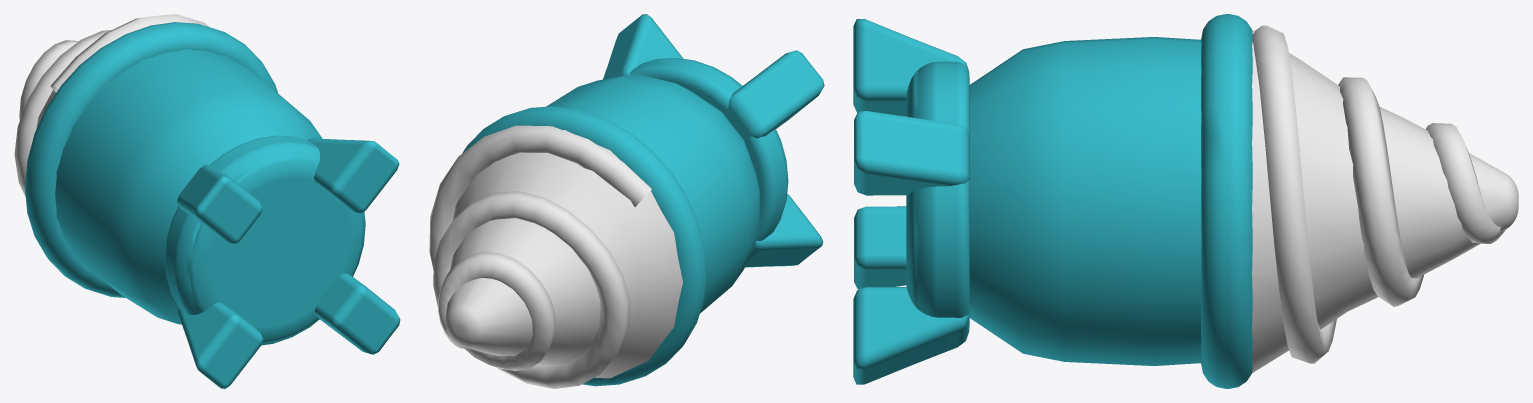
Rendered from Drill New2.fbx.
3 views of the same model, side by side, from view 1: azimuth 30°, elevation 25°; view 2: azimuth 150°, elevation 25°; view 3: azimuth 270°, elevation 25° (orthographic). The views are drawn at different scales.
Parts seen in each view (by area): view 1: Cylinder.006, Cylinder.010, Cube.011, Cylinder.009, Spiral.001; view 2: Spiral.001, Cylinder.006, Cube.011, Cylinder.009, Cylinder.010; view 3: Cylinder.006, Spiral.001, Cube.011, Cylinder.009, Cylinder.010.
Part boxes in pixels (x1=…): Cylinder.006: x1=55, y1=49, x2=321, y2=324; Cylinder.010: x1=165, y1=135, x2=365, y2=345; Cube.011: x1=177, y1=138, x2=400, y2=388; Cylinder.009: x1=25, y1=22, x2=277, y2=297; Spiral.001: x1=14, y1=14, x2=209, y2=196; Spiral.001: x1=429, y1=125, x2=682, y2=388; Cylinder.006: x1=546, y1=73, x2=759, y2=313; Cube.011: x1=603, y1=14, x2=824, y2=267; Cylinder.009: x1=462, y1=106, x2=706, y2=386; Cylinder.010: x1=630, y1=58, x2=788, y2=240; Cylinder.006: x1=969, y1=37, x2=1201, y2=365; Spiral.001: x1=1252, y1=25, x2=1518, y2=372; Cube.011: x1=853, y1=19, x2=969, y2=384; Cylinder.009: x1=1201, y1=14, x2=1252, y2=388; Cylinder.010: x1=906, y1=61, x2=969, y2=325.
Bounding box in the file's own units: 54.86 × 54.86 × 97.22.
